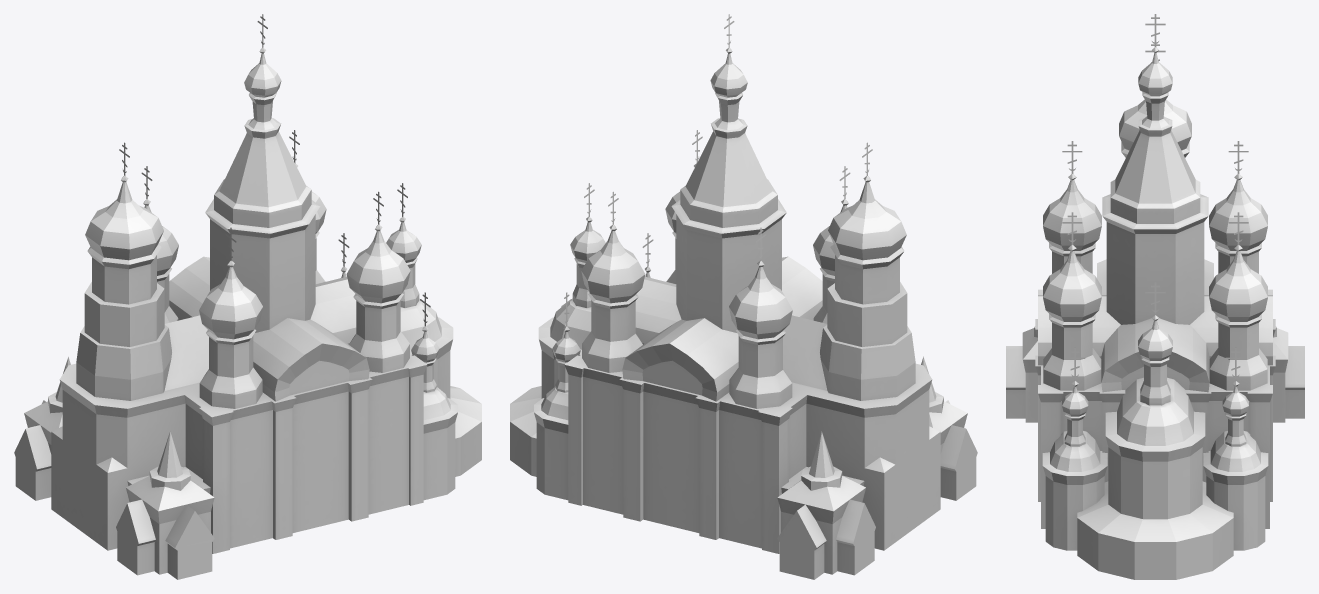
Rendered from savioronspilledblood.dae.
The picture shows the model from 3 angles, left to right: view 1: azimuth 30°, elevation 25°; view 2: azimuth 150°, elevation 25°; view 3: azimuth 270°, elevation 25°; orthographic projection.
Parts seen in each view (by area): view 1: SaviorOnSpilledBlood; view 2: SaviorOnSpilledBlood; view 3: SaviorOnSpilledBlood.
Part boxes in pixels (left/top/right/bottom): SaviorOnSpilledBlood: left=14, top=14, right=481, bottom=579; SaviorOnSpilledBlood: left=510, top=14, right=977, bottom=579; SaviorOnSpilledBlood: left=1006, top=14, right=1304, bottom=579.
Bounding box in the file's own units: 0.0885 × 0.0588 × 0.101.
Materials: 1 (1 with a texture image).
